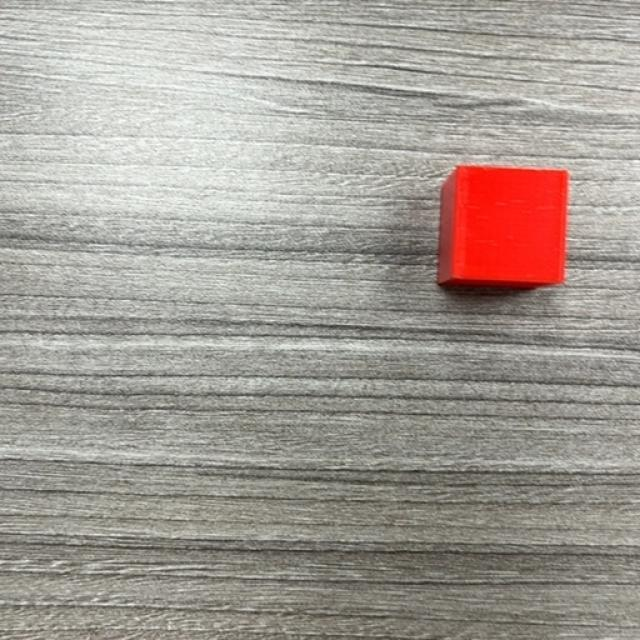Rojo: (435, 164, 571, 291)
